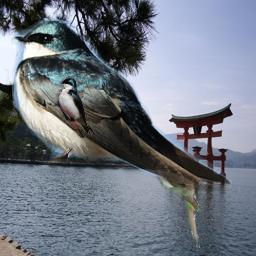Cuckoo: (144, 141, 202, 250)
Swallow: (11, 18, 232, 191), (56, 77, 94, 138)
